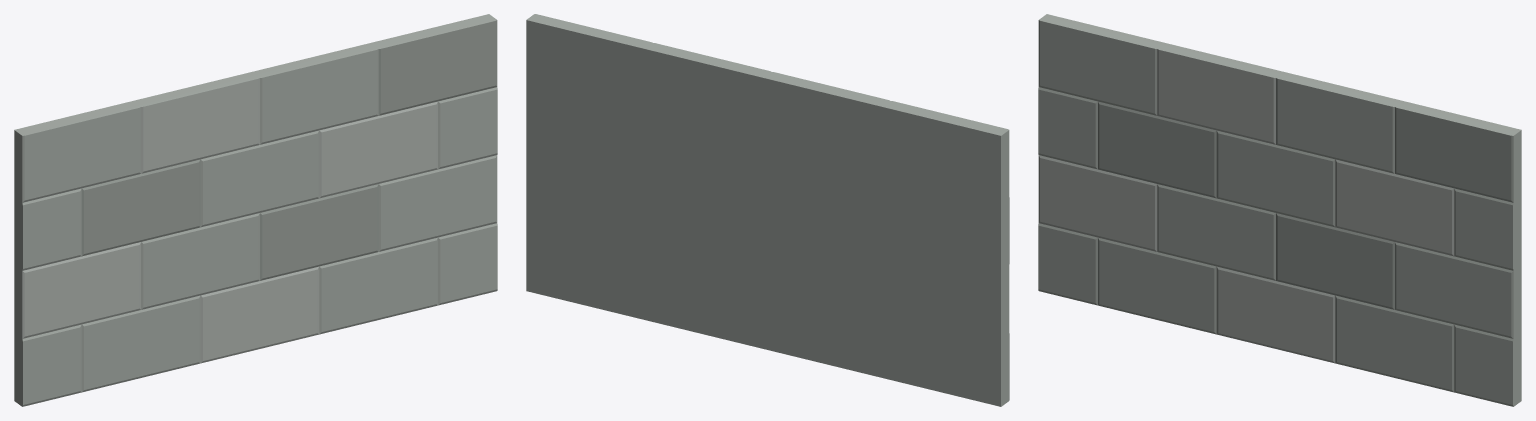
Rendered from Wall_Interior.fbx.
The picture shows the model from 3 angles, left to right: view 1: azimuth 30°, elevation 25°; view 2: azimuth 150°, elevation 25°; view 3: azimuth 330°, elevation 25°; orthographic projection.
Visible parts, largest first — view 1: Wall_Interior; view 2: Wall_Interior; view 3: Wall_Interior.
Boxes of the visible parts, <box> form: Wall_Interior: <box>14,14,497,406</box>; Wall_Interior: <box>526,14,1009,406</box>; Wall_Interior: <box>1038,14,1521,406</box>.
Size of the model in its own units: 378 by 206 by 11.91.
1 material, 1 textured.
